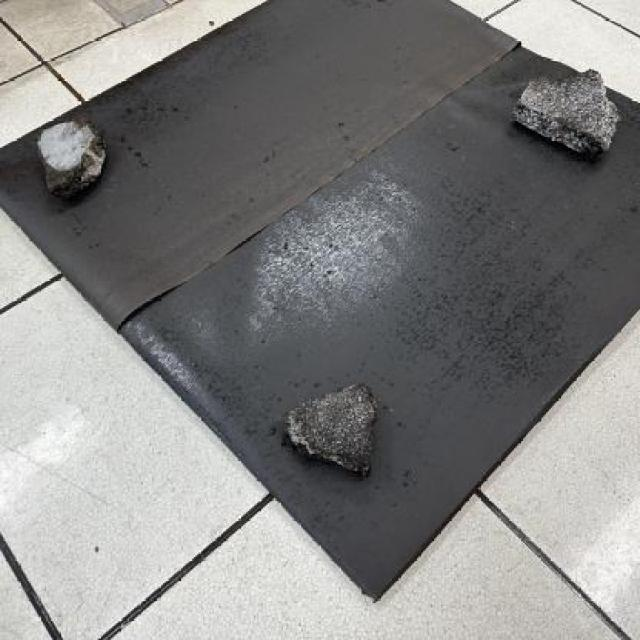Road Debris: (286, 388, 388, 478), (547, 76, 627, 130), (67, 119, 113, 164)
